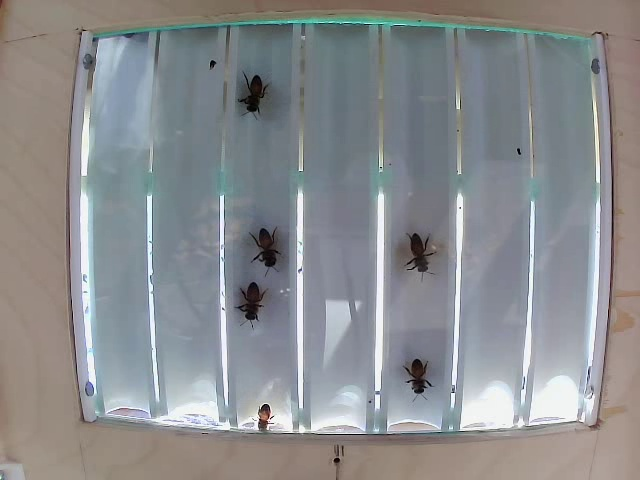bee: (225, 268, 285, 335), (390, 228, 446, 292), (411, 351, 452, 421), (234, 57, 273, 130), (252, 211, 293, 273)
